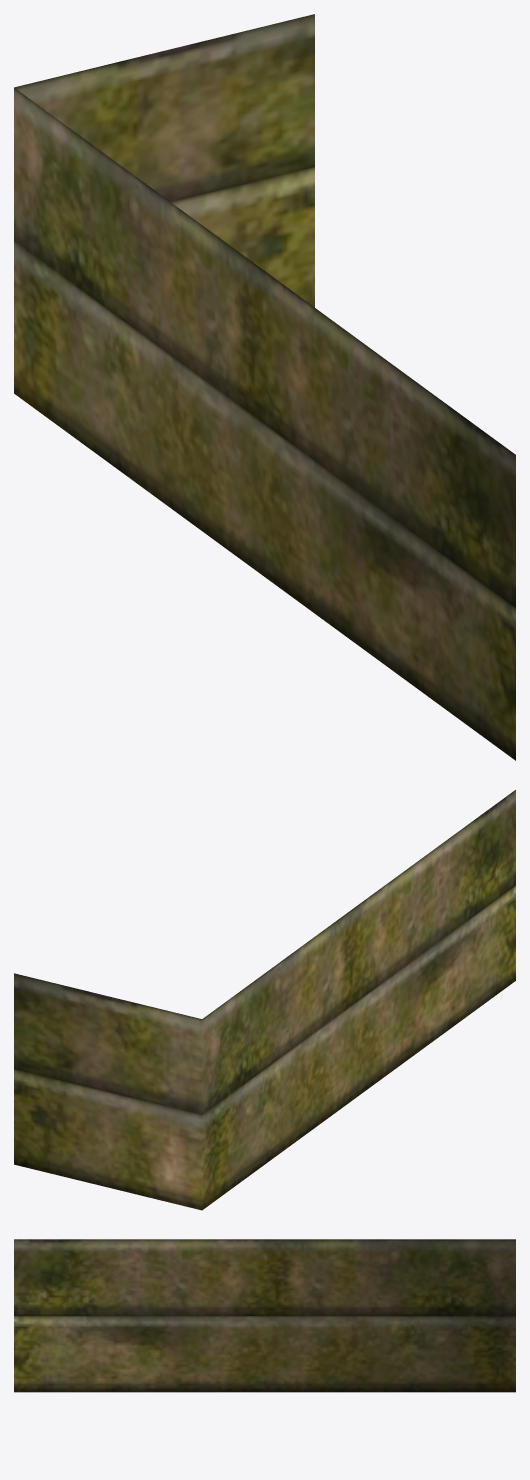
Rendered from OVERHILL_A_01_OBJECT90.fbx.
3 renders of one model, top to bottom at view 1: azimuth 30°, elevation 25°; view 2: azimuth 150°, elevation 25°; view 3: azimuth 270°, elevation 25°, orthographic. The views are drawn at different scales.
Visible parts, largest first — view 1: OVERHILL_A_01_OBJECT90; view 2: OVERHILL_A_01_OBJECT90; view 3: OVERHILL_A_01_OBJECT90.
Boxes of the visible parts, x1,y1,x2,y2 form: OVERHILL_A_01_OBJECT90: (14, 14, 515, 760); OVERHILL_A_01_OBJECT90: (14, 790, 515, 1210); OVERHILL_A_01_OBJECT90: (14, 1239, 515, 1392).
Size of the model in its own units: 9153 by 8892 by 26437.
Materials: 1 (1 with a texture image).
